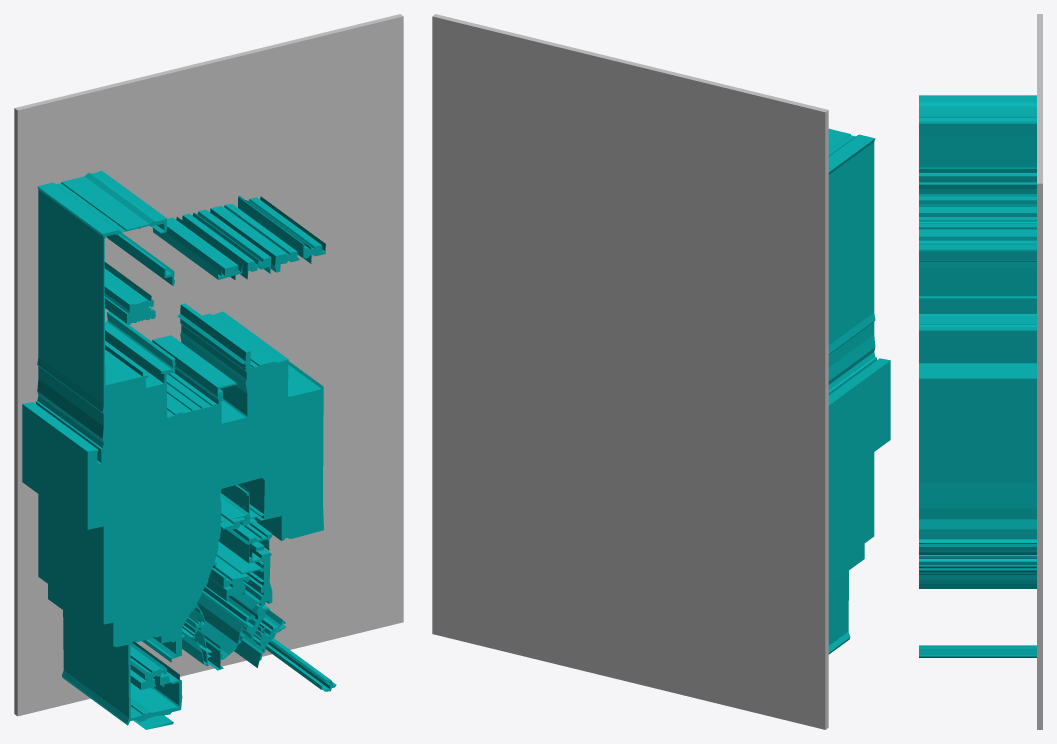
3 views of the same model, side by side, from view 1: azimuth 30°, elevation 25°; view 2: azimuth 150°, elevation 25°; view 3: azimuth 270°, elevation 25° (orthographic). The views are drawn at different scales.
Parts seen in each view (by area): view 1: world; view 2: world; view 3: world.
Boxes of the visible parts, box(x1,y1,x2,y2) form: world: box(14, 14, 403, 729); world: box(432, 14, 890, 729); world: box(919, 14, 1042, 729).
Bounding box in the file's own units: 10.23 × 15.35 × 3.15.
